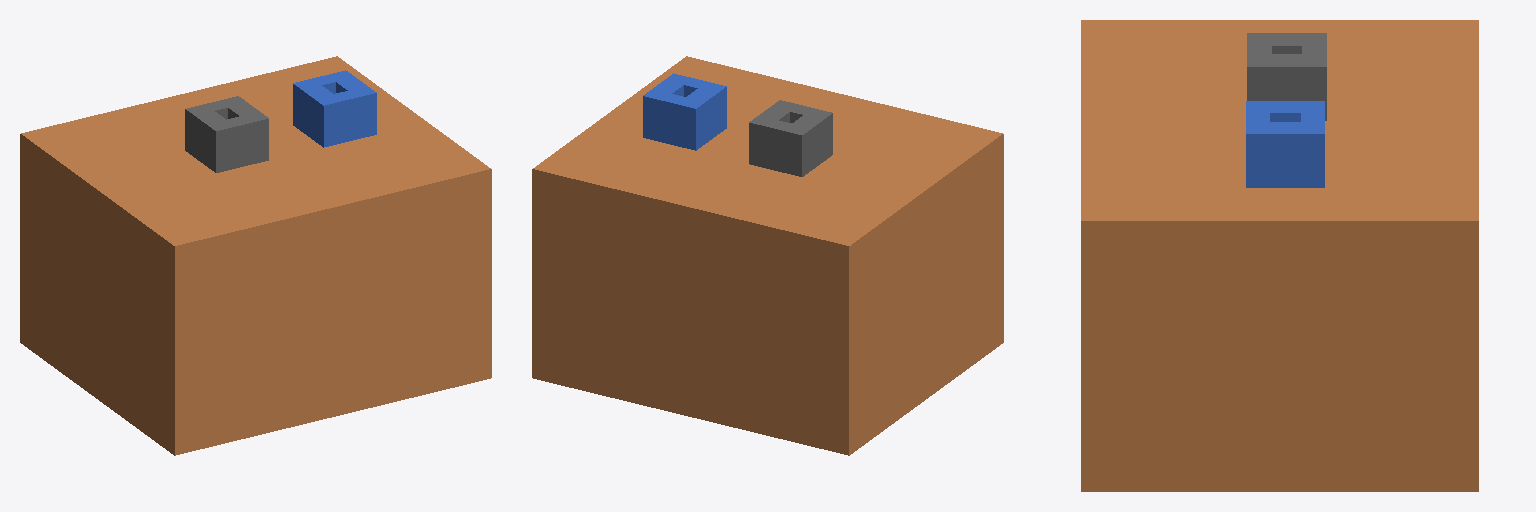
robot.urdf — peg_in_hole_fixtured_scene_0028_peg0014_tol00:
<?xml version="1.0"?>
<robot name="peg_in_hole_fixtured_scene_0028_peg0014_tol00">
  <material name="wood"><color rgba="0.82 0.56 0.35 1.0"/></material>
  <material name="start_fix"><color rgba="0.30 0.50 0.85 1.0"/></material>
  <material name="goal_fix"><color rgba="0.4706 0.4706 0.4706 1.0"/></material>
  <link name="box">
    <visual>
      <origin xyz="0.000000 0.000000 0.000000" rpy="0 0 0"/>
      <geometry><box size="0.475000 0.400000 0.300000"/></geometry>
      <material name="wood"/>
    </visual>
    <collision>
      <origin xyz="0.000000 0.000000 0.000000" rpy="0 0 0"/>
      <geometry><box size="0.475000 0.400000 0.300000"/></geometry>
    </collision>
    <visual>
      <origin xyz="0.121383 0.005555 0.155000" rpy="0 0 0"/>
      <geometry><box size="0.080000 0.080000 0.010000"/></geometry>
      <material name="start_fix"/>
    </visual>
    <collision>
      <origin xyz="0.121383 0.005555 0.155000" rpy="0 0 0"/>
      <geometry><box size="0.080000 0.080000 0.010000"/></geometry>
    </collision>
    <visual>
      <origin xyz="0.146633 0.005555 0.185000" rpy="0 0 0"/>
      <geometry><box size="0.029500 0.080000 0.050000"/></geometry>
      <material name="start_fix"/>
    </visual>
    <collision>
      <origin xyz="0.146633 0.005555 0.185000" rpy="0 0 0"/>
      <geometry><box size="0.029500 0.080000 0.050000"/></geometry>
    </collision>
    <visual>
      <origin xyz="0.096133 0.005555 0.185000" rpy="0 0 0"/>
      <geometry><box size="0.029500 0.080000 0.050000"/></geometry>
      <material name="start_fix"/>
    </visual>
    <collision>
      <origin xyz="0.096133 0.005555 0.185000" rpy="0 0 0"/>
      <geometry><box size="0.029500 0.080000 0.050000"/></geometry>
    </collision>
    <visual>
      <origin xyz="0.121383 0.033305 0.185000" rpy="0 0 0"/>
      <geometry><box size="0.021000 0.024500 0.050000"/></geometry>
      <material name="start_fix"/>
    </visual>
    <collision>
      <origin xyz="0.121383 0.033305 0.185000" rpy="0 0 0"/>
      <geometry><box size="0.021000 0.024500 0.050000"/></geometry>
    </collision>
    <visual>
      <origin xyz="0.121383 -0.022195 0.185000" rpy="0 0 0"/>
      <geometry><box size="0.021000 0.024500 0.050000"/></geometry>
      <material name="start_fix"/>
    </visual>
    <collision>
      <origin xyz="0.121383 -0.022195 0.185000" rpy="0 0 0"/>
      <geometry><box size="0.021000 0.024500 0.050000"/></geometry>
    </collision>
    <visual>
      <origin xyz="-0.038840 0.007097 0.155000" rpy="0 0 0"/>
      <geometry><box size="0.080000 0.080000 0.010000"/></geometry>
      <material name="goal_fix"/>
    </visual>
    <collision>
      <origin xyz="-0.038840 0.007097 0.155000" rpy="0 0 0"/>
      <geometry><box size="0.080000 0.080000 0.010000"/></geometry>
    </collision>
    <visual>
      <origin xyz="-0.013755 0.007097 0.185000" rpy="0 0 0"/>
      <geometry><box size="0.029830 0.080000 0.050000"/></geometry>
      <material name="goal_fix"/>
    </visual>
    <collision>
      <origin xyz="-0.013755 0.007097 0.185000" rpy="0 0 0"/>
      <geometry><box size="0.029830 0.080000 0.050000"/></geometry>
    </collision>
    <visual>
      <origin xyz="-0.063925 0.007097 0.185000" rpy="0 0 0"/>
      <geometry><box size="0.029830 0.080000 0.050000"/></geometry>
      <material name="goal_fix"/>
    </visual>
    <collision>
      <origin xyz="-0.063925 0.007097 0.185000" rpy="0 0 0"/>
      <geometry><box size="0.029830 0.080000 0.050000"/></geometry>
    </collision>
    <visual>
      <origin xyz="-0.038840 0.034682 0.185000" rpy="0 0 0"/>
      <geometry><box size="0.020340 0.024830 0.050000"/></geometry>
      <material name="goal_fix"/>
    </visual>
    <collision>
      <origin xyz="-0.038840 0.034682 0.185000" rpy="0 0 0"/>
      <geometry><box size="0.020340 0.024830 0.050000"/></geometry>
    </collision>
    <visual>
      <origin xyz="-0.038840 -0.020488 0.185000" rpy="0 0 0"/>
      <geometry><box size="0.020340 0.024830 0.050000"/></geometry>
      <material name="goal_fix"/>
    </visual>
    <collision>
      <origin xyz="-0.038840 -0.020488 0.185000" rpy="0 0 0"/>
      <geometry><box size="0.020340 0.024830 0.050000"/></geometry>
    </collision>
    <inertial>
      <mass value="500"/>
      <friction value="1.0"/>
      <inertia ixx="1000.0" ixy="0.0" ixz="0.0" iyy="1000.0" iyz="0.0" izz="1000.0"/>
    </inertial>
  </link>
</robot>

--- What the picture shows (computed from the rendered views, not written in the file) ---
Views: 3 orthographic renders of the robot side by side, from view 1: azimuth 30°, elevation 25°; view 2: azimuth 150°, elevation 25°; view 3: azimuth 270°, elevation 25°.
Model peg_in_hole_fixtured_scene_0028_peg0014_tol00 with 1 links and 0 joints (none), rooted at box, posed all joints at 0.
Links seen in each view (by area): view 1: box; view 2: box; view 3: box.
Link boxes in pixels (x1,y1,x2,y2): box: [20, 56, 491, 455]; box: [532, 56, 1003, 455]; box: [1081, 20, 1478, 491].
Size in the robot's own frame: 0.475 by 0.4 by 0.36 metres.
Geometry: primitives only (box / cylinder / sphere), no mesh files.
